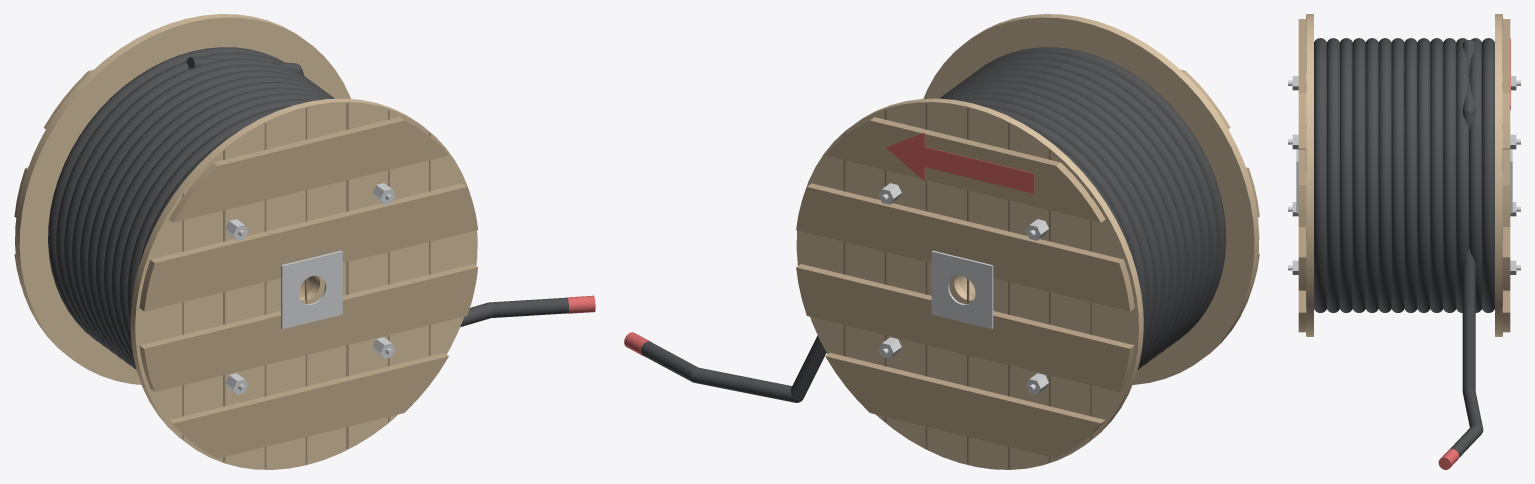
Rendered from Cable_Reel_Wooden.glb.
3 views of the same model, side by side, from view 1: azimuth 30°, elevation 25°; view 2: azimuth 150°, elevation 25°; view 3: azimuth 270°, elevation 25° (orthographic). The views are drawn at different scales.
Parts seen in each view (by area): view 1: flanges, battens, cable, hardware, plank_seams, cable_tail; view 2: flanges, battens, cable, hardware, cable_tail, roll_arrow, plank_seams; view 3: cable, battens, flanges, cable_tail, hardware, cable_tape, plank_seams.
Boxes of the visible parts, box(x1,y1,x2,y2) form: flanges: box(15, 14, 477, 469); battens: box(14, 69, 478, 458); cable: box(48, 47, 334, 369); hardware: box(225, 183, 395, 394); plank_seams: box(182, 103, 430, 468); cable_tail: box(186, 57, 568, 326); flanges: box(796, 14, 1259, 469); battens: box(796, 69, 1259, 458); cable: box(939, 47, 1226, 369); hardware: box(878, 183, 1048, 394); cable_tail: box(641, 335, 826, 402); roll_arrow: box(886, 132, 1034, 193); plank_seams: box(843, 103, 1091, 468); cable: box(1314, 38, 1494, 312); battens: box(1298, 19, 1510, 332); flanges: box(1306, 14, 1502, 336); cable_tail: box(1449, 40, 1483, 457); hardware: box(1288, 76, 1520, 274); cable_tape: box(1438, 449, 1459, 469); plank_seams: box(1306, 15, 1502, 335).
Bounding box in the file's own units: 1.99 × 1.25 × 0.9.
